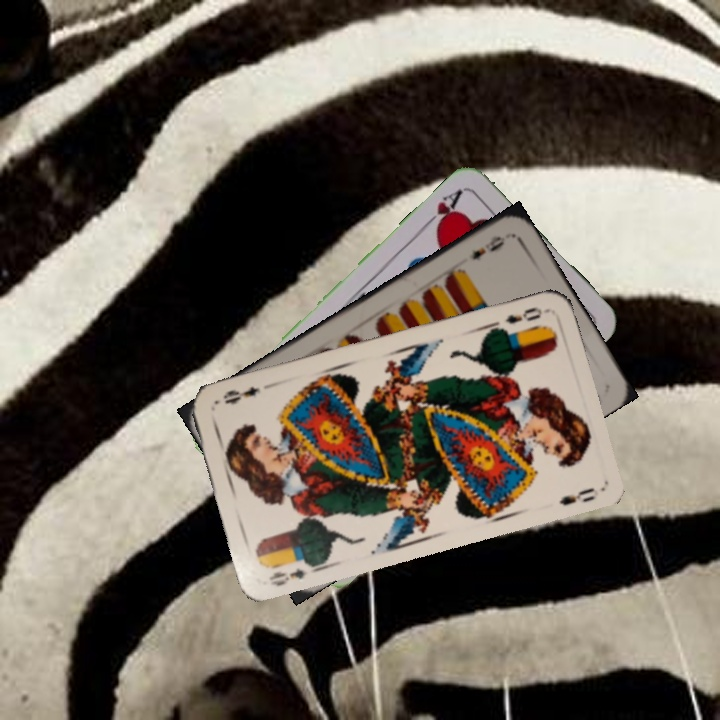E9: (468, 232, 508, 263)
EO: (265, 555, 320, 589), (501, 303, 545, 327)
HA: (419, 185, 466, 234)
